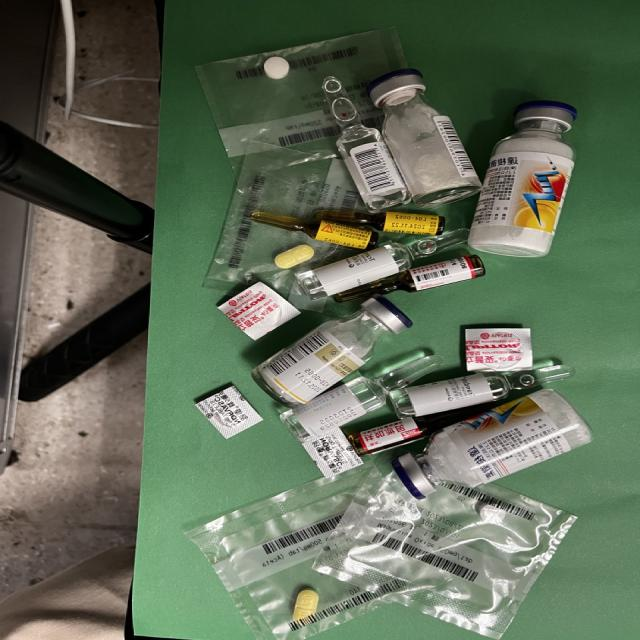Ampoules: (280, 355, 441, 442), (295, 228, 468, 300), (323, 76, 410, 211), (389, 364, 573, 418), (347, 403, 492, 456), (333, 256, 485, 302), (251, 212, 379, 250), (315, 211, 445, 236)
Vials: (392, 389, 590, 500), (251, 294, 411, 408), (468, 101, 576, 257), (368, 69, 481, 208)
